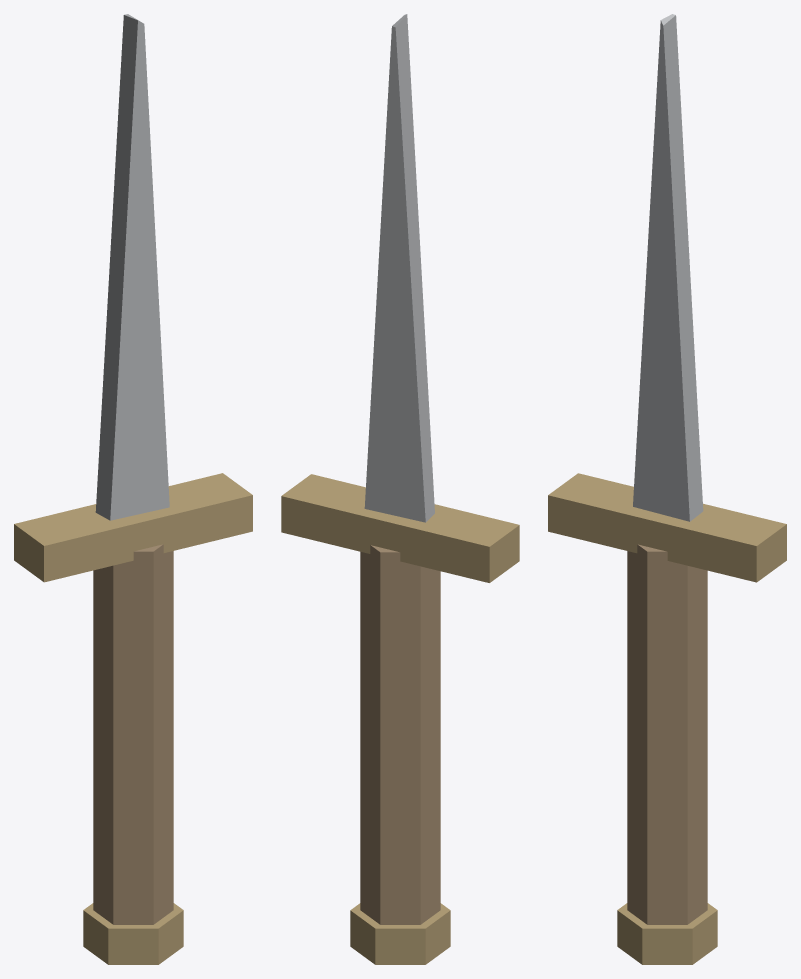
Rendered from greatblade.glb.
3 views of the same model, side by side, from view 1: azimuth 30°, elevation 25°; view 2: azimuth 150°, elevation 25°; view 3: azimuth 330°, elevation 25° (orthographic).
Parts seen in each view (by area): view 1: greatblade; view 2: greatblade; view 3: greatblade.
Part boxes in pixels (x1,y1,x2,y2): greatblade: [14, 14, 252, 964]; greatblade: [281, 14, 519, 964]; greatblade: [548, 14, 786, 964].
Size of the model in its own units: 0.24 by 1.02 by 0.1.
